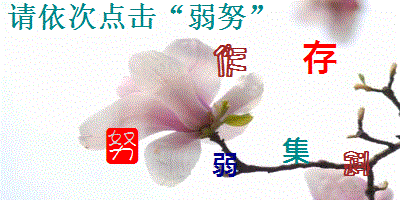result: (186, 2, 247, 31)
text: (300, 38, 339, 76), (211, 41, 248, 80), (104, 126, 140, 166), (280, 136, 311, 167), (341, 148, 372, 179), (210, 151, 238, 178)
